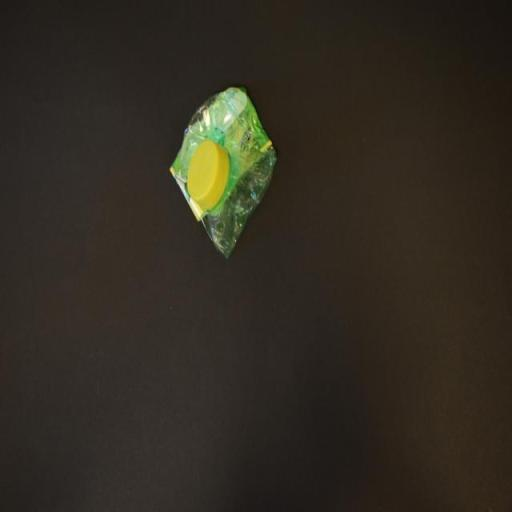plastic: (169, 86, 279, 257)
